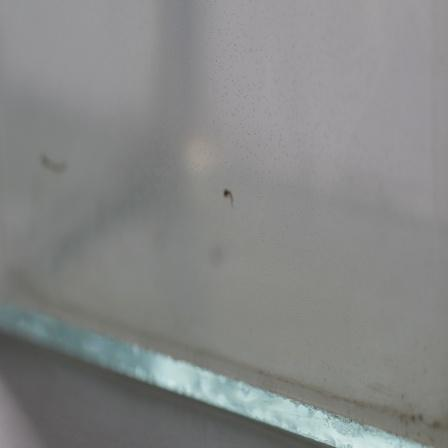Jentik-Nyamuk: (218, 186, 237, 208)
